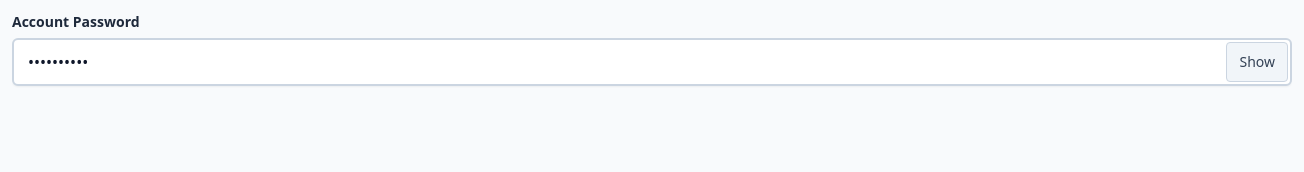
Test case: Accessible UI Components › PasswordInput toggles password visibility and updates aria-pressed
Note: Click toggle
Step 1. Click the button with aria-label "Show password as plain text" → x=1257, y=62, box [1226, 42, 1288, 82]
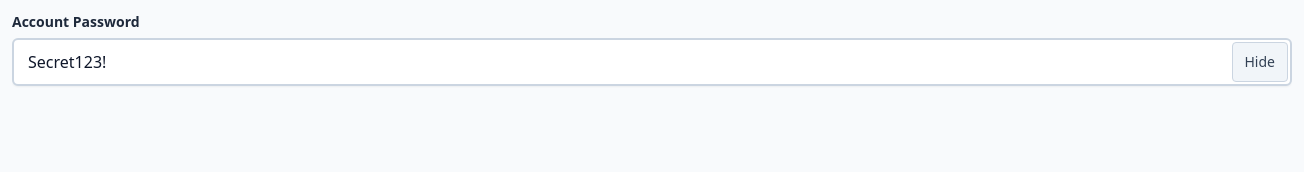
Expected: the button named "Show password as plain text" is pressed, [1232, 42, 1288, 82]
Expected: the button named "Show password as plain text" has attribute aria-label="Hide password", [1232, 42, 1288, 82]
